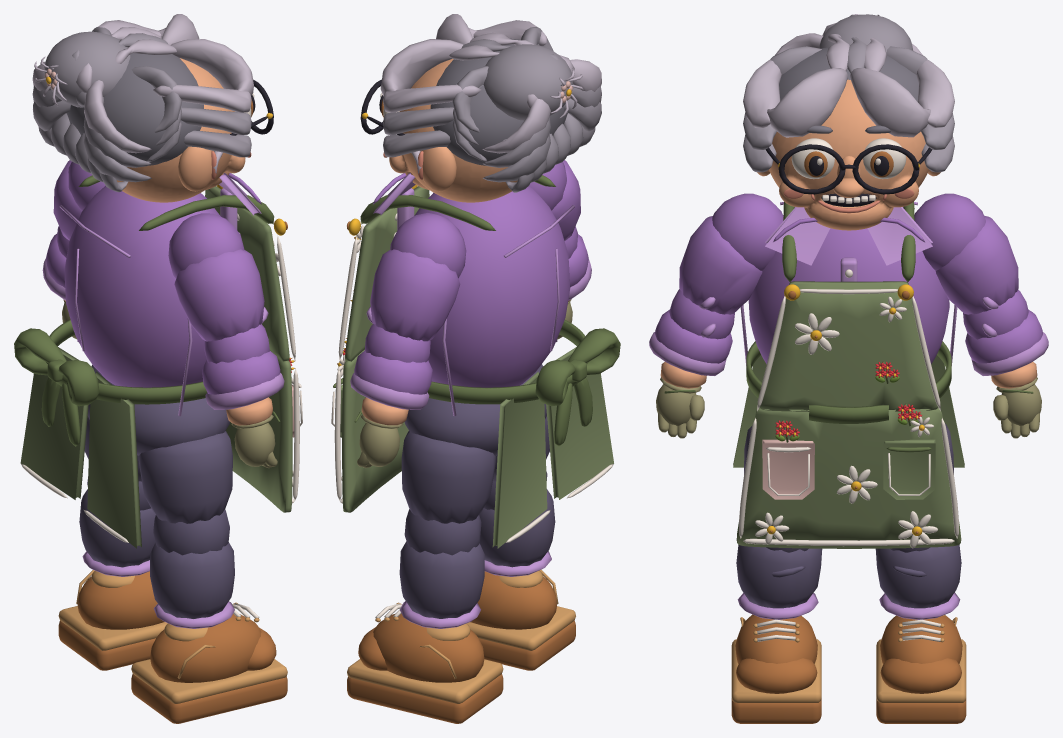
Rendered from npc.mrs-alvarez.glb.
3 views of the same model, side by side, from view 1: azimuth 30°, elevation 25°; view 2: azimuth 150°, elevation 25°; view 3: azimuth 270°, elevation 25° (orthographic).
Parts seen in each view (by area): view 1: head, torso, hip, footR, armR, shinR, footL, legR, foreArmR, shinL, armL, handR (+1 smaller); view 2: head, torso, hip, footL, armL, shinL, footR, legL, foreArmL, shinR, armR, handL (+1 smaller); view 3: head, torso, hip, footL, footR, armR, armL, foreArmL, foreArmR, shinR, shinL, handL (+1 smaller).
Part boxes in pixels (box(x1,y1,x2,y2)): head: box(32, 14, 273, 202); torso: box(59, 173, 295, 416); hip: box(14, 319, 302, 548); footR: box(131, 602, 287, 723); armR: box(168, 213, 268, 341); shinR: box(150, 509, 234, 628); footL: box(58, 570, 167, 670); legR: box(138, 431, 232, 523); foreArmR: box(202, 324, 284, 425); shinL: box(79, 476, 155, 576); armL: box(53, 160, 105, 240); handR: box(231, 411, 280, 468); head: box(360, 14, 601, 202); torso: box(338, 173, 574, 416); hip: box(331, 319, 620, 548); footL: box(347, 602, 503, 723); armL: box(366, 213, 466, 341); shinL: box(399, 509, 484, 628); footR: box(467, 569, 575, 670); legL: box(401, 431, 495, 523); foreArmL: box(350, 324, 432, 425); shinR: box(479, 471, 555, 576); armR: box(529, 160, 580, 240); handL: box(354, 411, 403, 468); head: box(743, 14, 954, 230); torso: box(740, 201, 957, 411); hip: box(733, 341, 964, 548); footL: box(876, 615, 966, 723); footR: box(731, 614, 821, 723); armR: box(679, 193, 783, 314); armL: box(914, 193, 1018, 314); foreArmL: box(963, 289, 1048, 388); foreArmR: box(649, 289, 734, 388); shinR: box(736, 544, 822, 619); shinL: box(875, 544, 961, 619); handL: box(993, 377, 1041, 438).
Bounding box in the file's own units: 0.6071 × 1.69 × 0.954.
